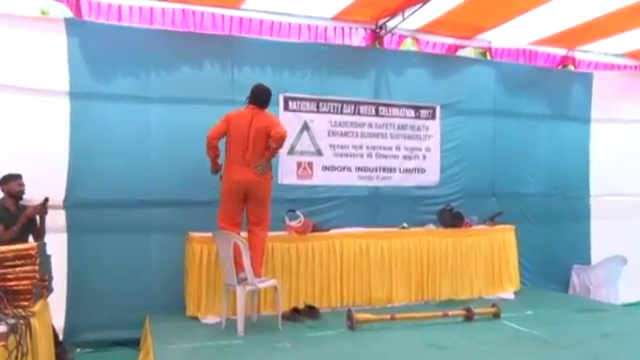helmet_off: (242, 82, 275, 111), (1, 171, 25, 203)
person: (208, 81, 286, 282), (1, 170, 52, 248)
